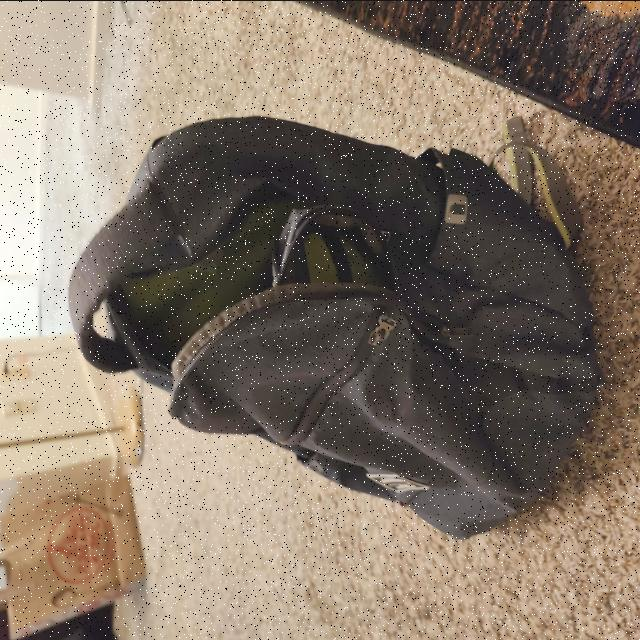bag: (70, 135, 606, 535)
